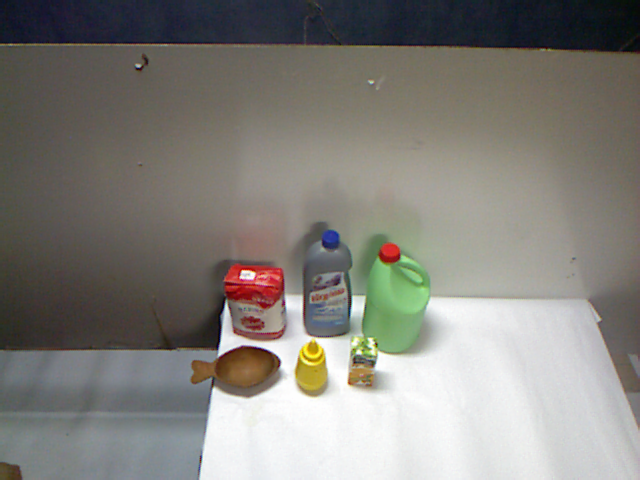confort: (198, 253, 311, 394)
cubix: (377, 340, 417, 382)
harina: (403, 268, 479, 357)
jabon: (311, 338, 360, 372)
pepino: (292, 370, 438, 427)
te: (337, 291, 404, 350)
